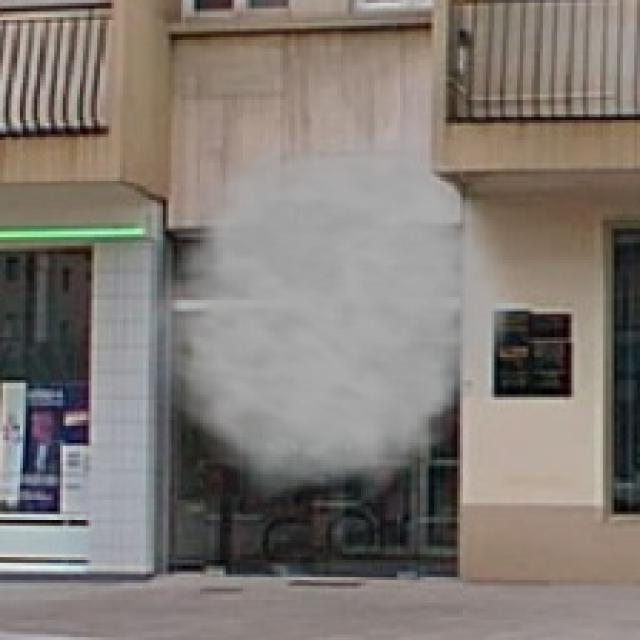Smoke: (131, 111, 526, 503)
